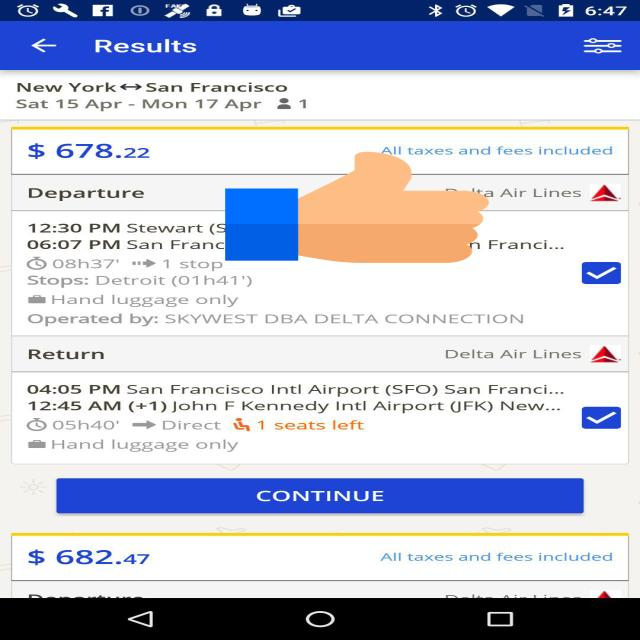privacy zuckering: (225, 149, 489, 266)
